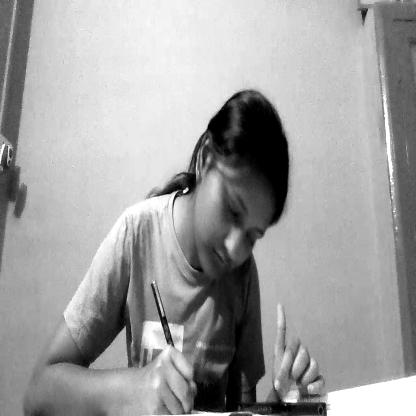Distracted: (188, 96, 286, 278)
